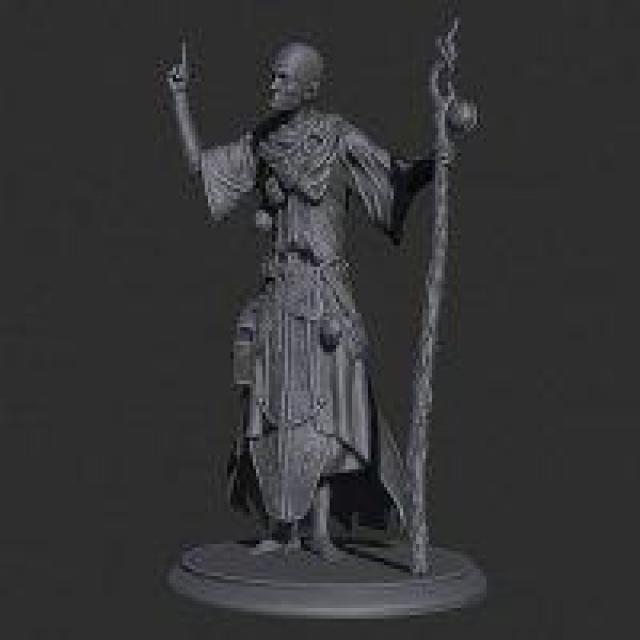Without deffect: (138, 2, 511, 640)
